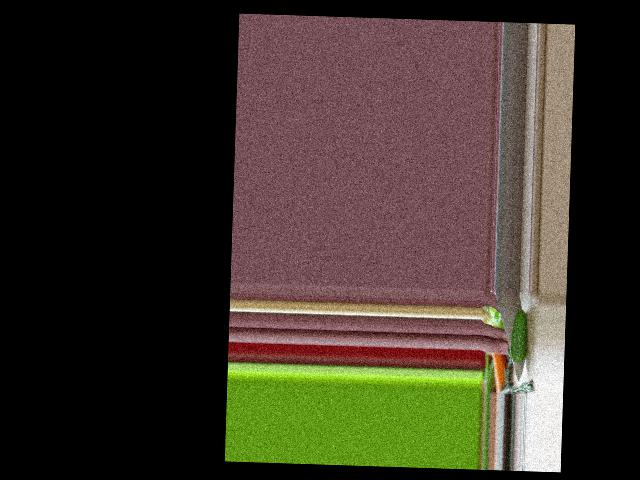cucumber: (510, 310, 528, 363)
